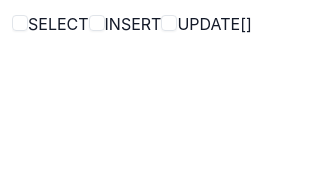
Test: Checkbox (MCQ multi-select interaction) › reflects checked state on the aria attribute
Click the checkbox next to "SELECT".
click(20, 23)  # box [12,15,28,31]
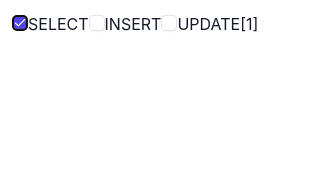
Check: the checkbox next to "SELECT" is checked, box [12,15,28,31]
